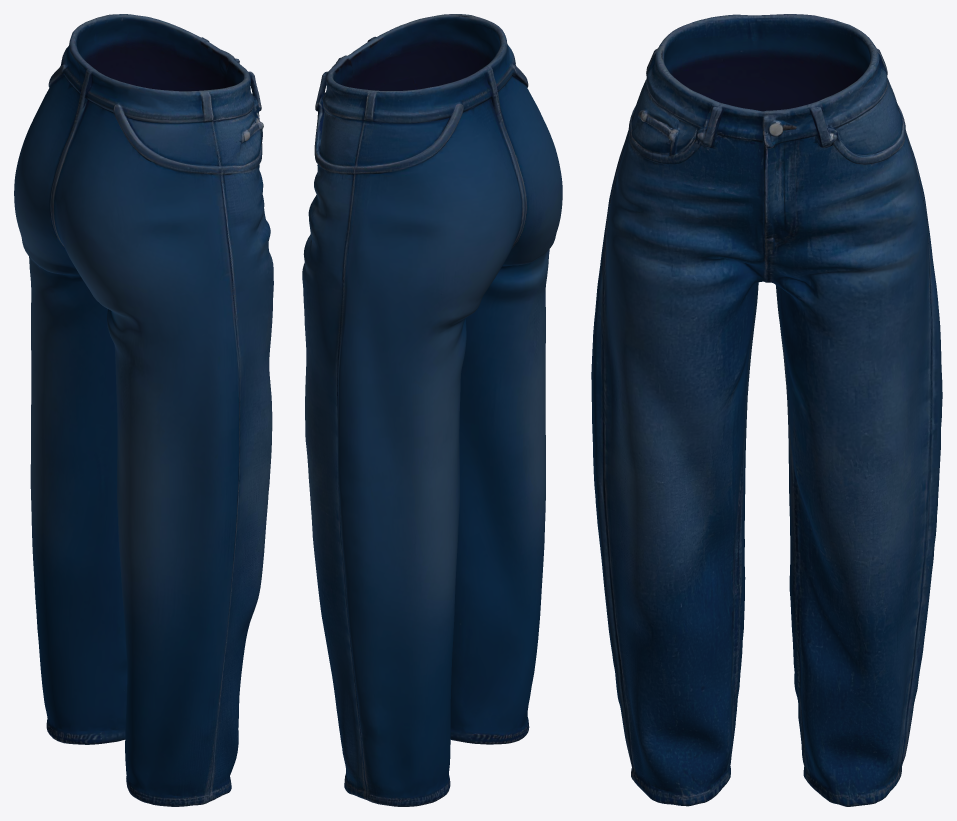
The model's file is barrell.glb.
3 views of the same model, side by side, from view 1: azimuth 30°, elevation 25°; view 2: azimuth 150°, elevation 25°; view 3: azimuth 270°, elevation 25° (orthographic). The views are drawn at different scales.
Visible parts, largest first — view 1: tripo_node_67587437-9c10-4399-96ad-4895c28be04b; view 2: tripo_node_67587437-9c10-4399-96ad-4895c28be04b; view 3: tripo_node_67587437-9c10-4399-96ad-4895c28be04b.
Part boxes in pixels (box(x1,y1,x2,y2)): tripo_node_67587437-9c10-4399-96ad-4895c28be04b: box(14, 14, 273, 806); tripo_node_67587437-9c10-4399-96ad-4895c28be04b: box(302, 14, 562, 806); tripo_node_67587437-9c10-4399-96ad-4895c28be04b: box(591, 14, 942, 806).
Size of the model in its own units: 0.2862 by 1 by 0.4269.
Materials: 1 (1 with a texture image).
